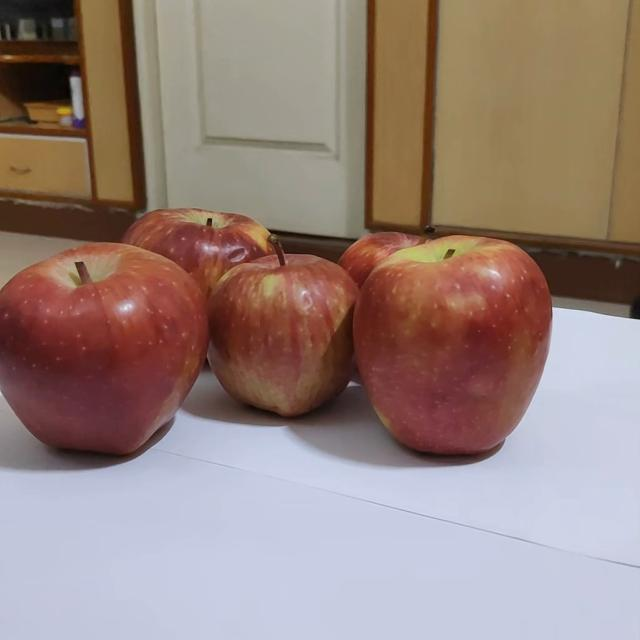apple: (6, 250, 239, 497), (98, 202, 293, 388), (394, 245, 580, 438), (231, 258, 397, 424), (332, 223, 473, 359)
